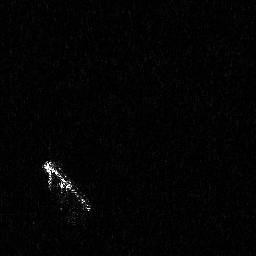ship: (39, 157, 91, 227)
